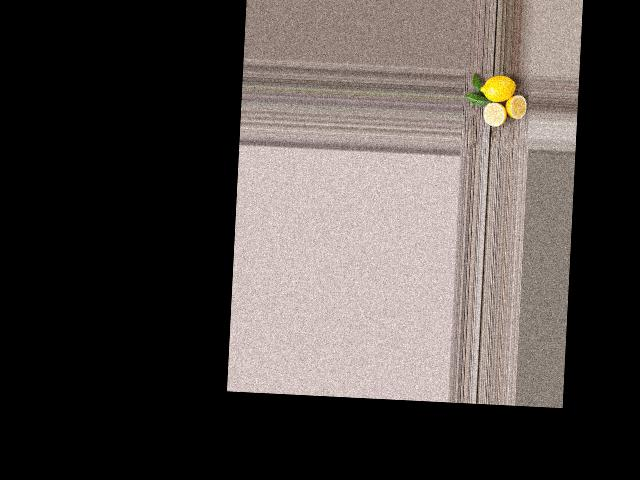lemon: (477, 76, 516, 104)
